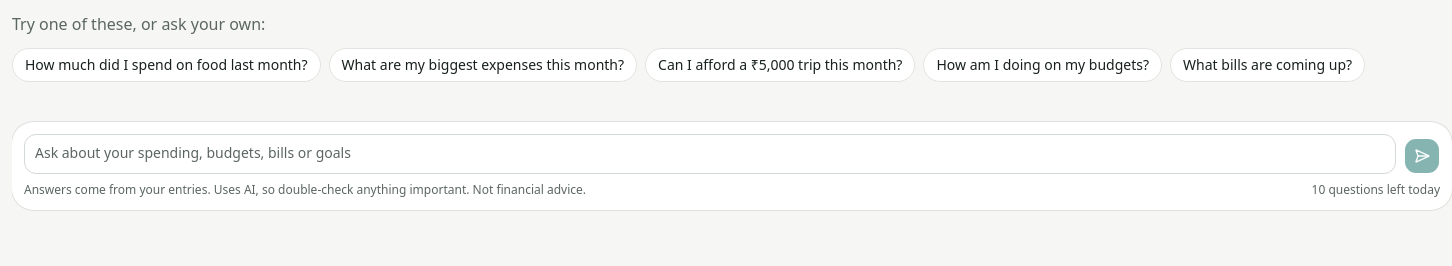
Test case: money chat › keeps the conversation and says so when the request doesn't go through
Type "Am I over budget?" into the text box named "Your question" at (710, 154), box left=24, top=134, right=1396, bottom=174
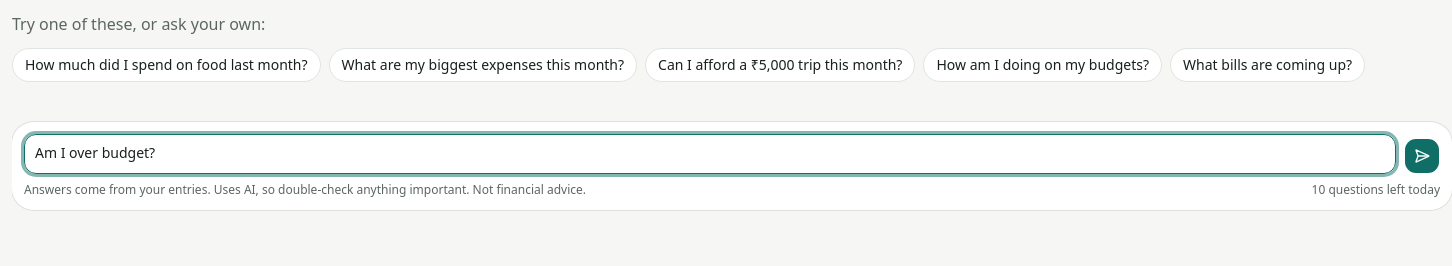
Click the button named "Send" at (1422, 156), box left=1404, top=138, right=1440, bottom=174
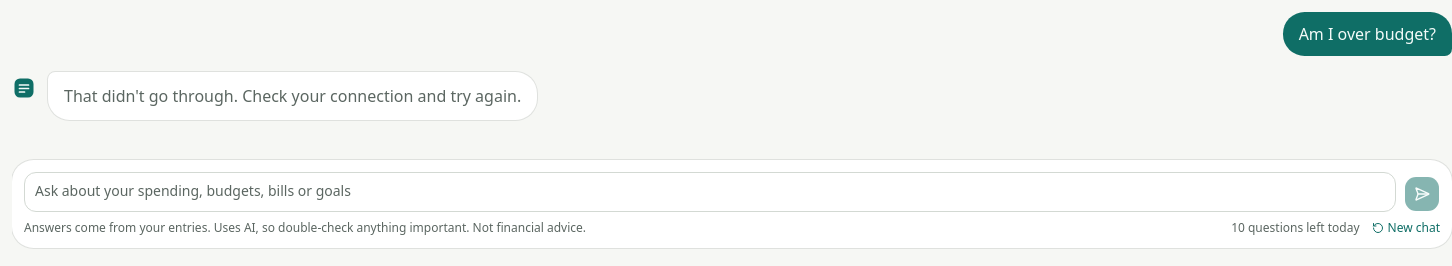
Expected: the text "10 questions left today New chat" is shown, left=1231, top=220, right=1440, bottom=236
Expected: the text "That didn't go through. Check your connection and try again." is shown, left=64, top=84, right=521, bottom=108
Expected: the list item "Am I over budget?" is shown, left=1283, top=12, right=1451, bottom=56
